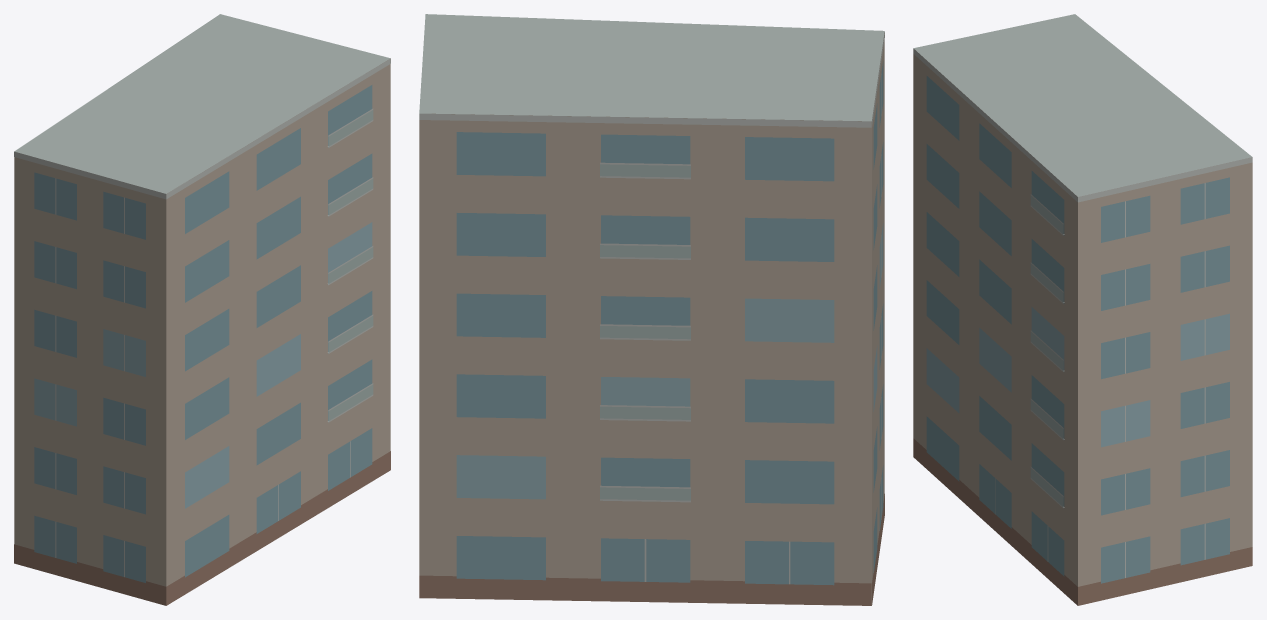
The model's file is survey-upis-32880957.glb.
3 renders of one model, left to right at view 1: azimuth 30°, elevation 25°; view 2: azimuth 150°, elevation 25°; view 3: azimuth 270°, elevation 25°, orthographic. The views are drawn at different scales.
Visible parts, largest first — view 1: survey-upis-32880957.tmp; view 2: survey-upis-32880957.tmp; view 3: survey-upis-32880957.tmp.
Boxes of the visible parts, x1,y1,x2,y2 form: survey-upis-32880957.tmp: [14, 14, 390, 605]; survey-upis-32880957.tmp: [419, 14, 884, 605]; survey-upis-32880957.tmp: [913, 14, 1252, 605].
Bounding box in the file's own units: 17.58 × 18.3 × 13.77.
